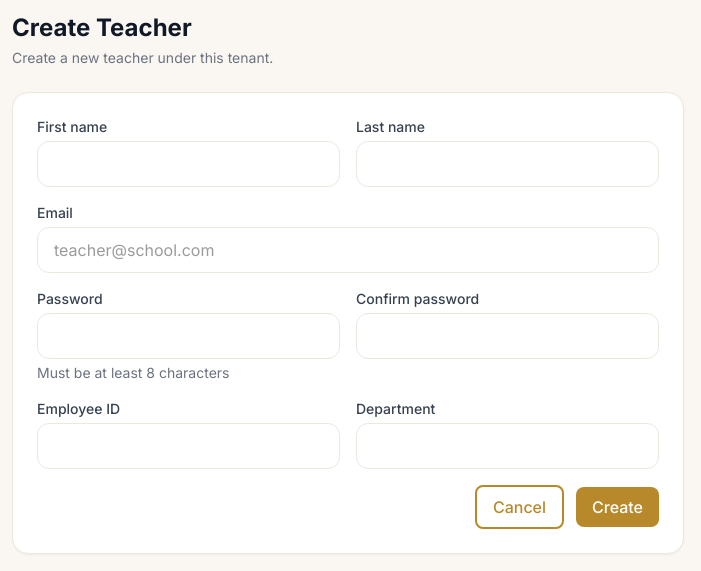
Test case: CreateTeacherPage — password mismatch validation › shows "Passwords do not match" when passwords differ
The width and height of the screenshot is (701, 571).
Type "Jane" into the field labelled "First name" at (188, 164), box [37,141,340,187]
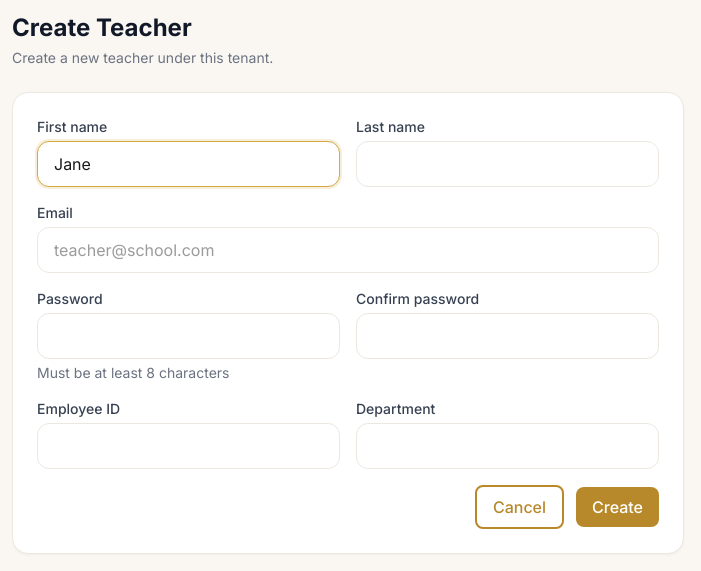
Type "Doe" into the field labelled "Last name" at (508, 164), box [356,141,659,187]
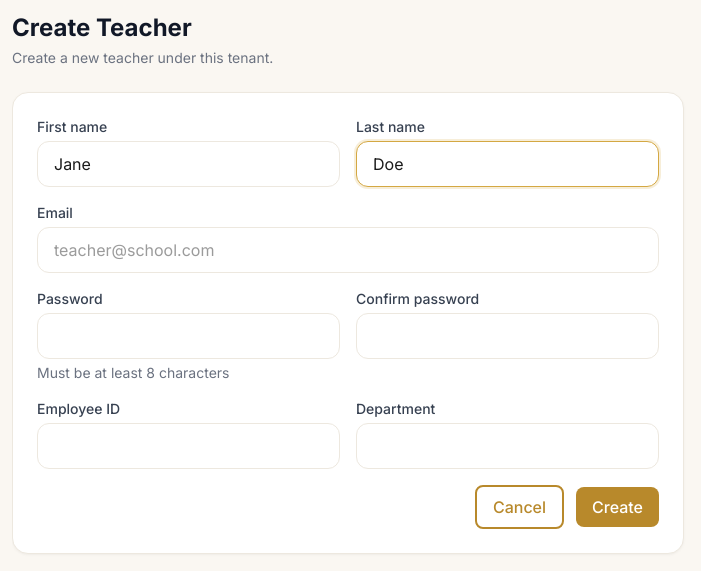
Type "jane@school.com" into the field with placeholder "teacher@school.com" at (348, 250), box [37,227,659,273]
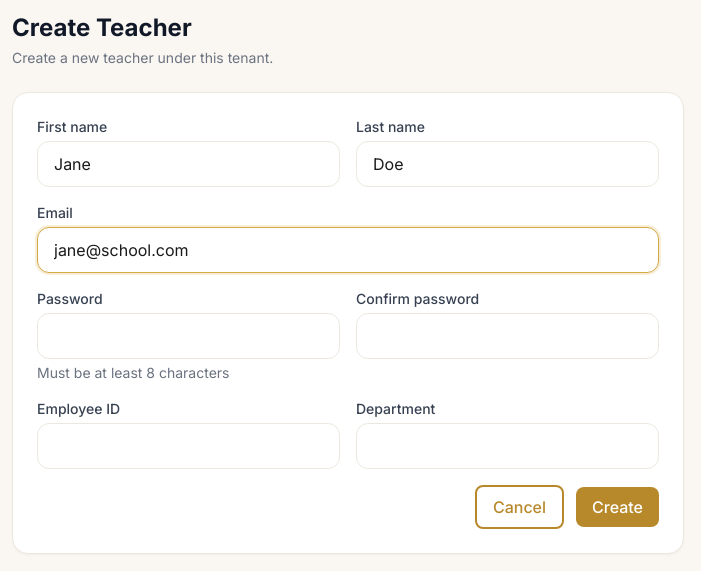
Type "StrongPass1" into the password field labelled "Password" at (188, 336), box [37,313,340,359]
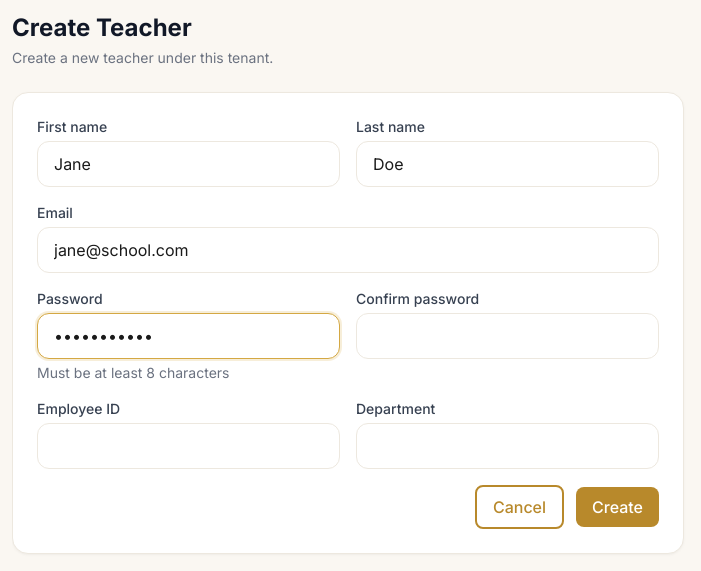
Type "DifferentPass1" into the password field labelled "Confirm password" at (508, 336), box [356,313,659,359]
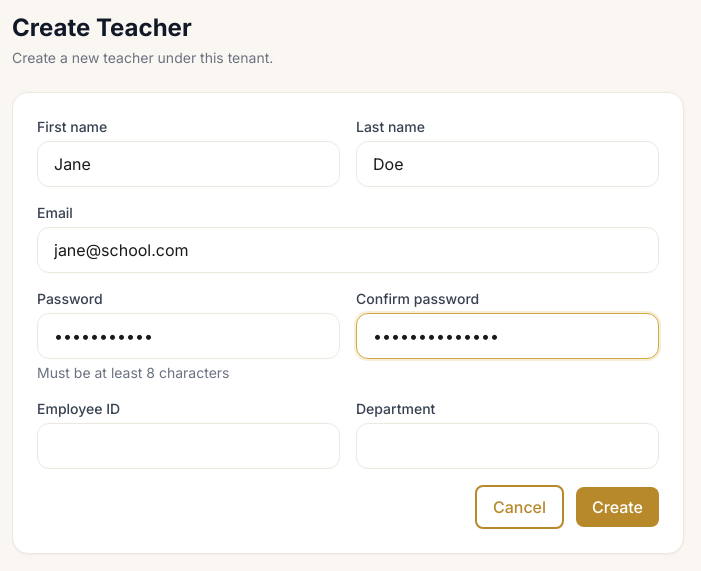
Click the button "Create" at (618, 507), box [576,487,659,527]
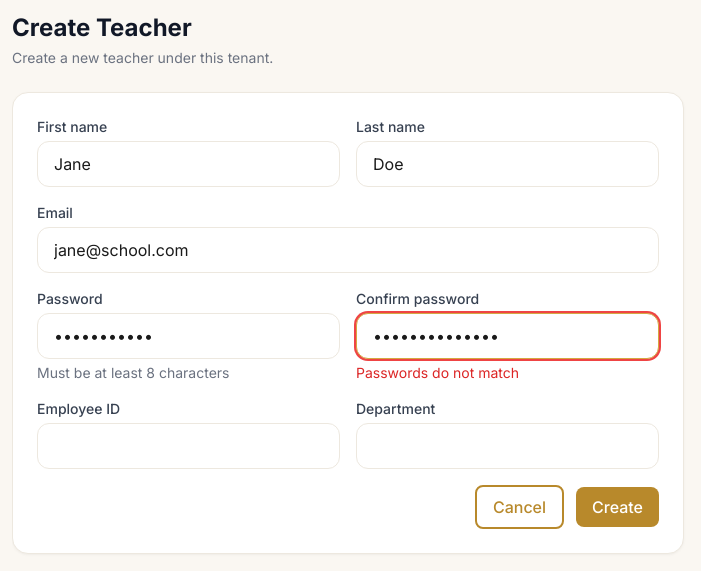
expect the text "Passwords do not match" is shown: met, box [356,364,519,381]
